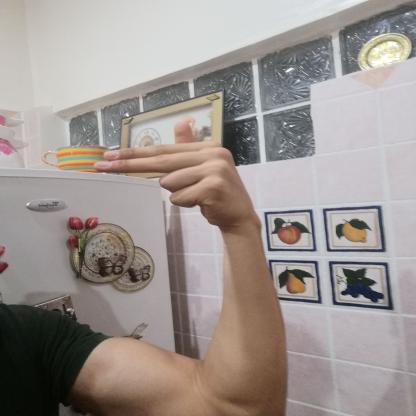GHAYN: (84, 110, 266, 236)
